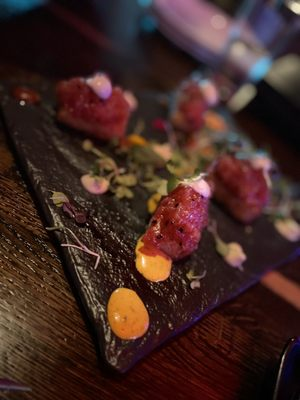sandwich: (0, 14, 298, 389)
sushi: (0, 11, 300, 388)
